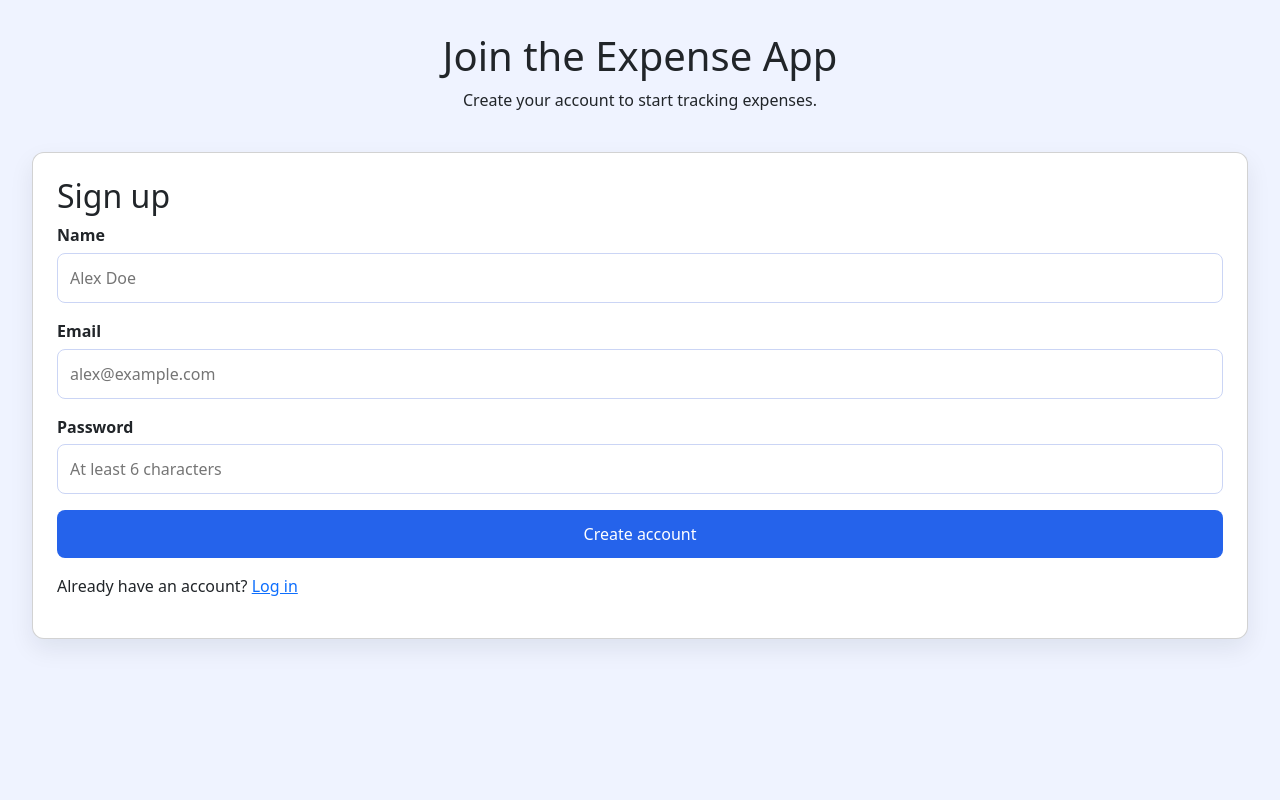
SignUpPage › shows success message after signup
Type "Demo User" into the field labelled "Name" at [640, 278], box [57,253,1223,303]
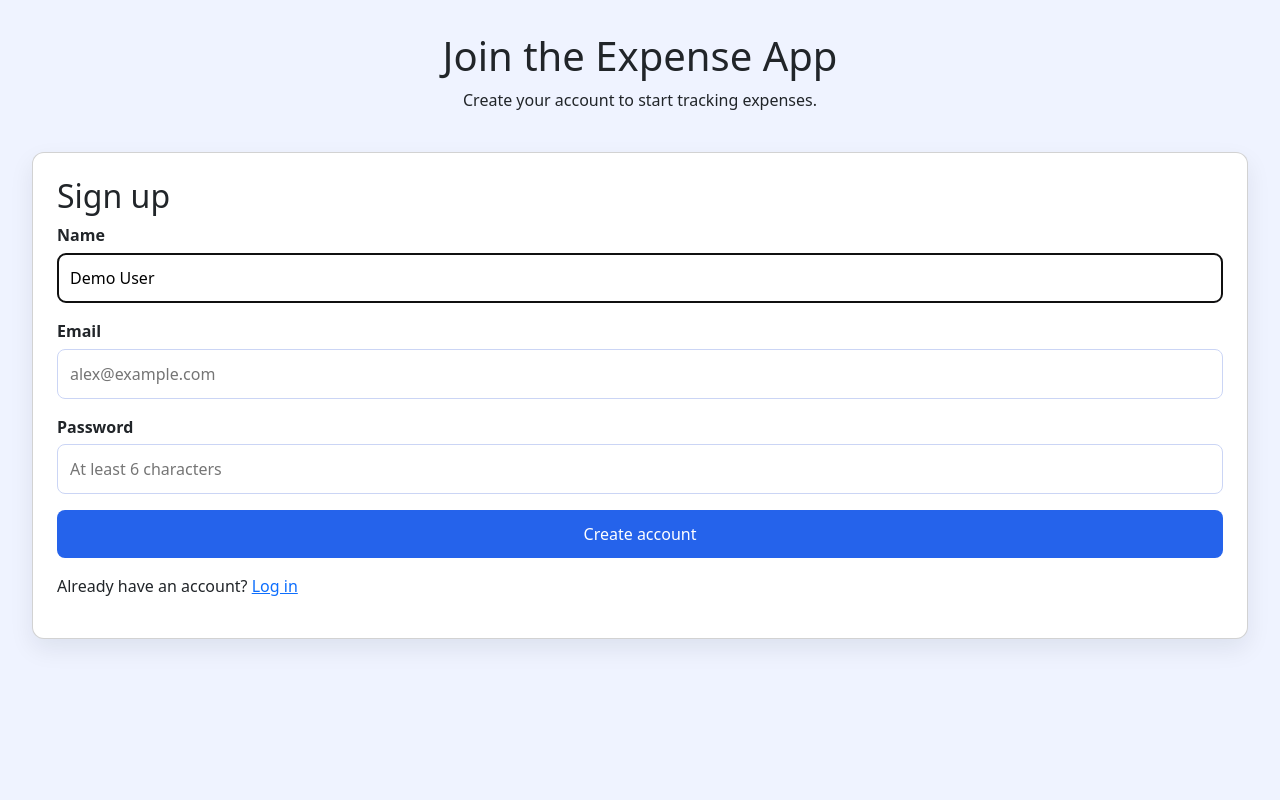
Type "demo@example.com" into the field labelled "Email" at [640, 374], box [57,349,1223,399]
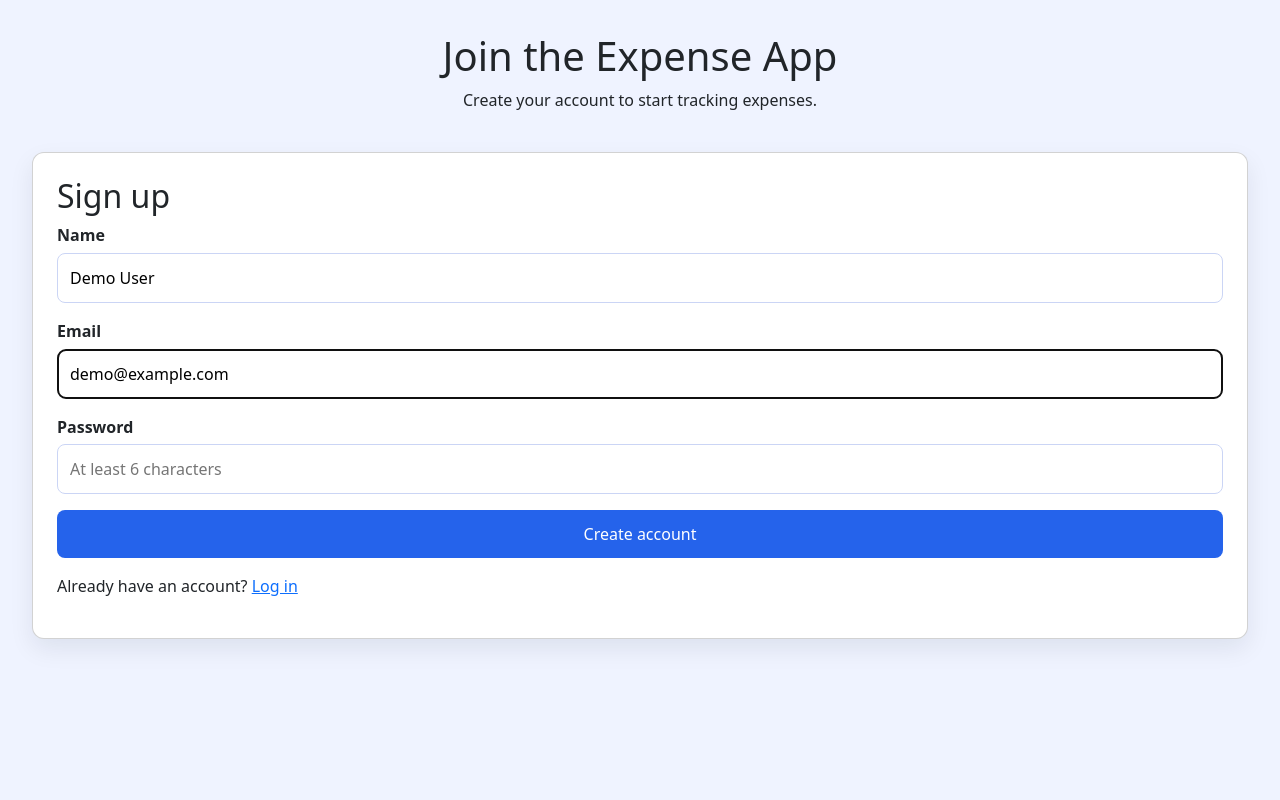
Type "demopass" into the password field labelled "Password" at [640, 469], box [57,444,1223,494]
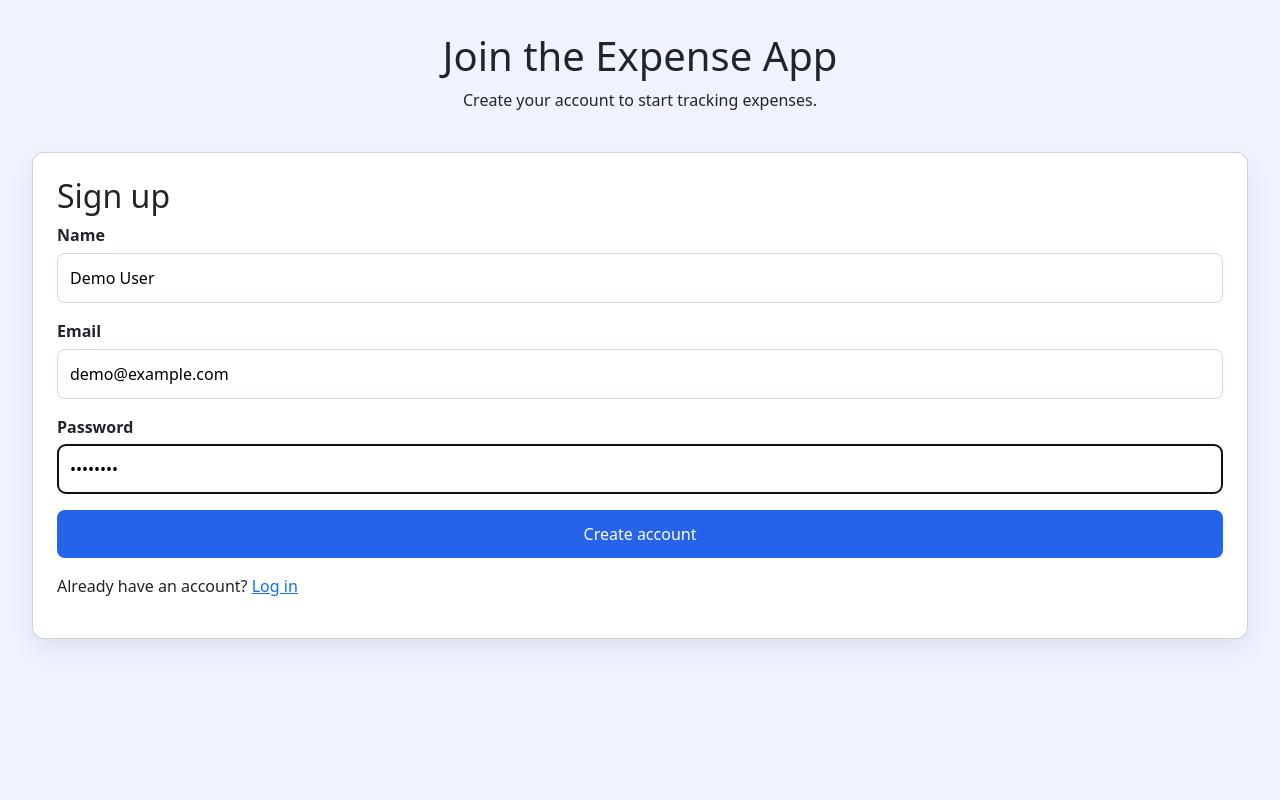
Click the button "Create account" at [640, 534], box [57,510,1223,558]
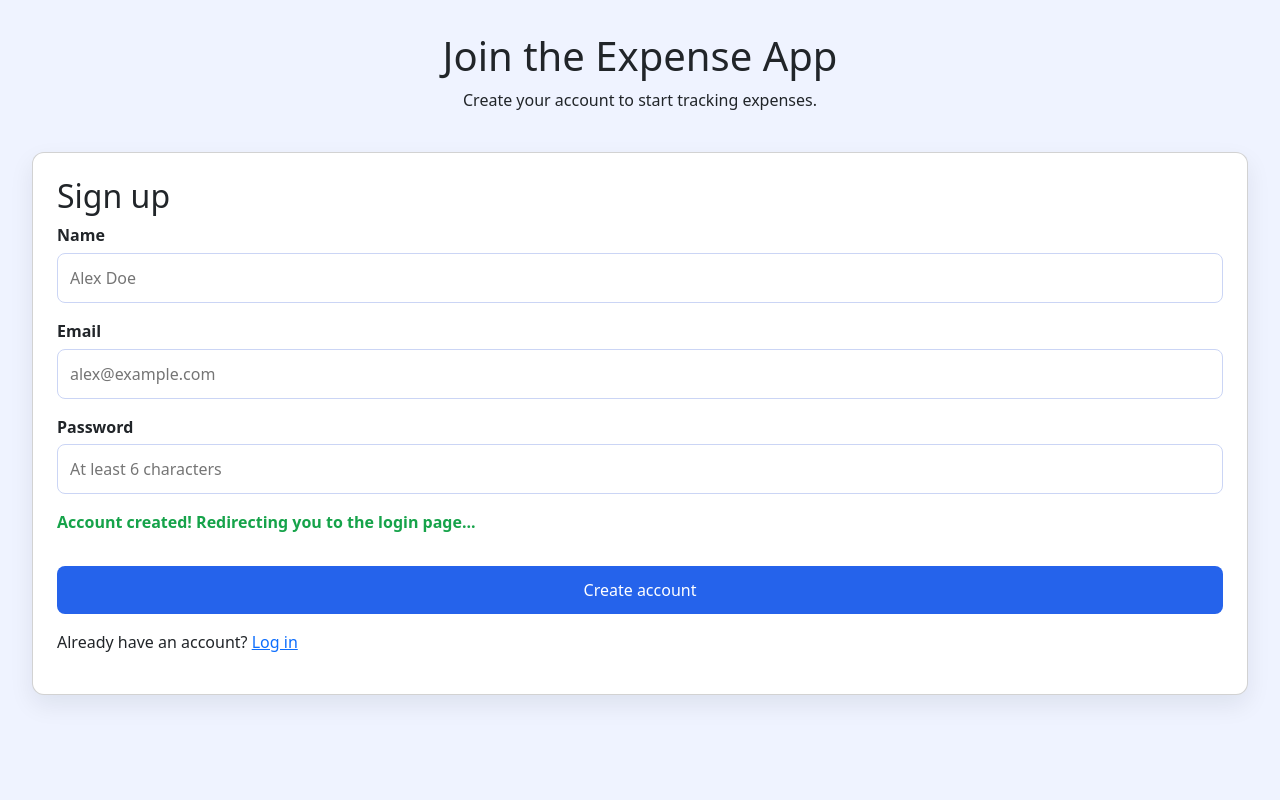
expect the text "Account created! Redirecting you to the login page..." is shown: met, box [57,511,476,533]
